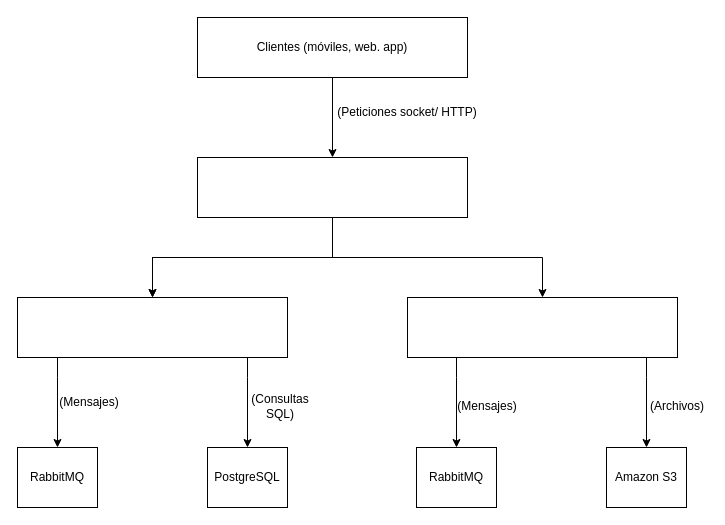
This 725x525 diagram has some shape labels left out. The box of each missing label's shape, as (x1, y1, x2, y2) in pixels:
Balanceador de carga (Nginx): (196, 156, 468, 218)
Servidor Worker 1 (Thread Pool Python): (16, 296, 288, 358)
Servidor Worker 2 (Thread Pool Python): (406, 296, 678, 358)
